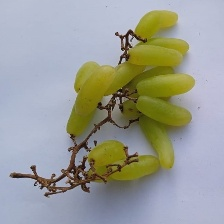grapes: (45, 41, 202, 196)
